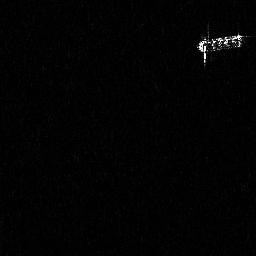ship: (196, 29, 245, 68)
